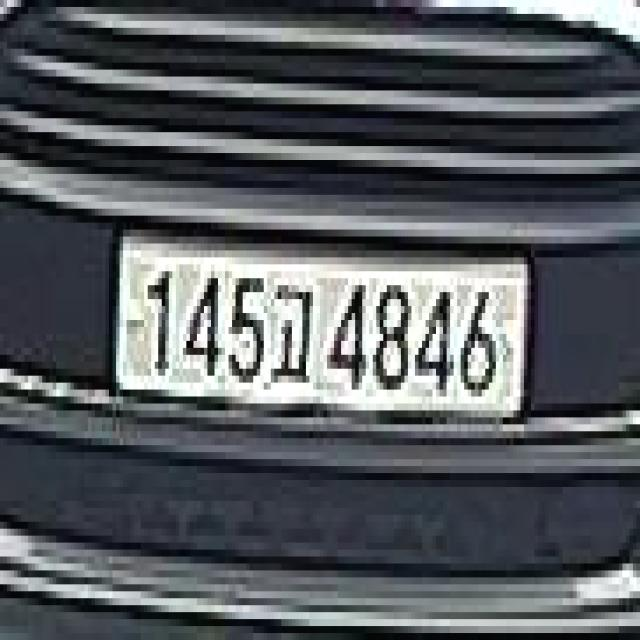illegal_plate: (104, 222, 538, 446)
